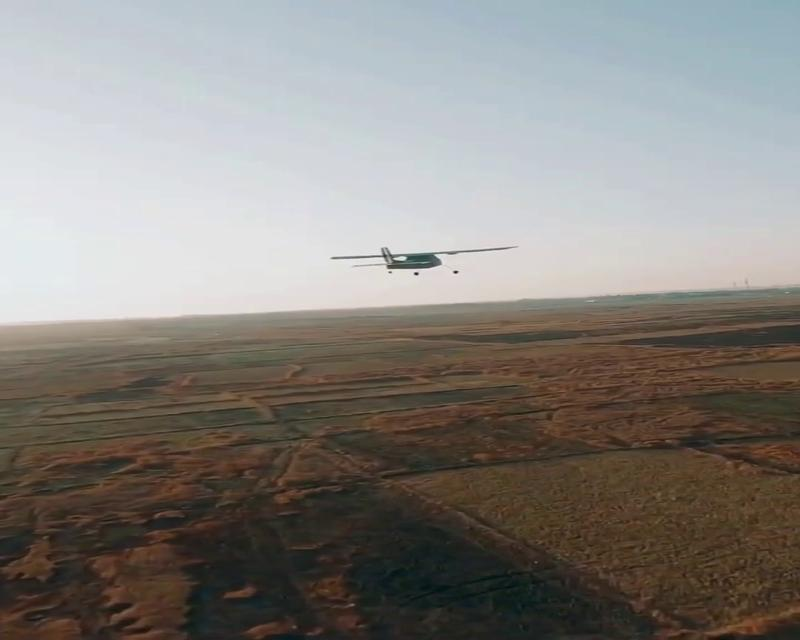UAV: (328, 246, 519, 276)
